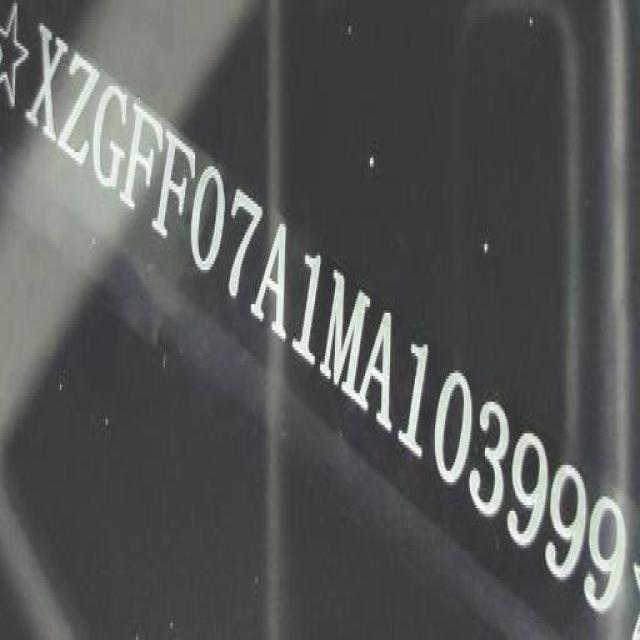0: (178, 149, 238, 282), (427, 360, 477, 497)
1: (283, 241, 344, 380), (391, 328, 438, 464)
3: (464, 388, 515, 524)
7: (212, 180, 270, 320)
9: (581, 480, 633, 625), (503, 422, 555, 558), (542, 456, 593, 592)
A: (246, 210, 302, 352), (349, 293, 404, 435)
F: (152, 114, 198, 258), (118, 102, 166, 214)
G: (91, 83, 130, 189)
M: (317, 266, 387, 411)
X: (25, 16, 69, 143)
Z: (55, 49, 104, 172)
